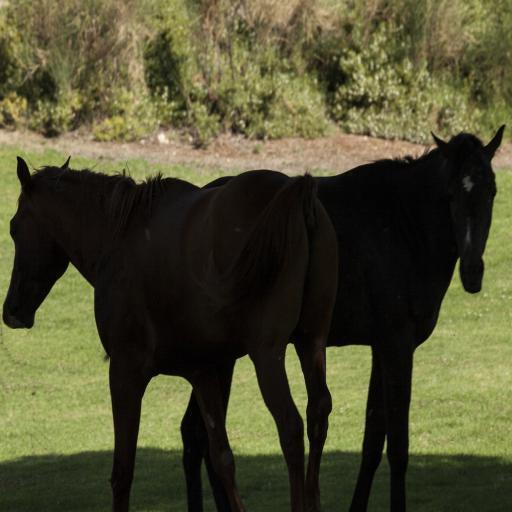horse: (179, 124, 508, 510), (4, 156, 336, 512)
